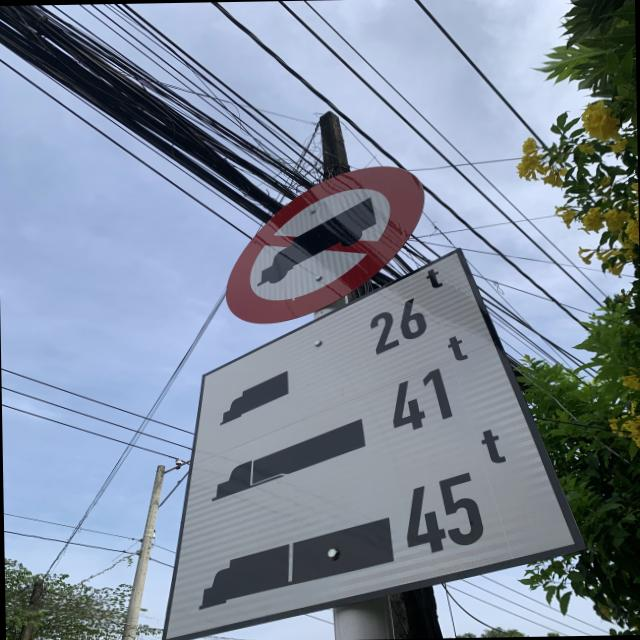Cam_Xe_Tai: (218, 164, 429, 324)
